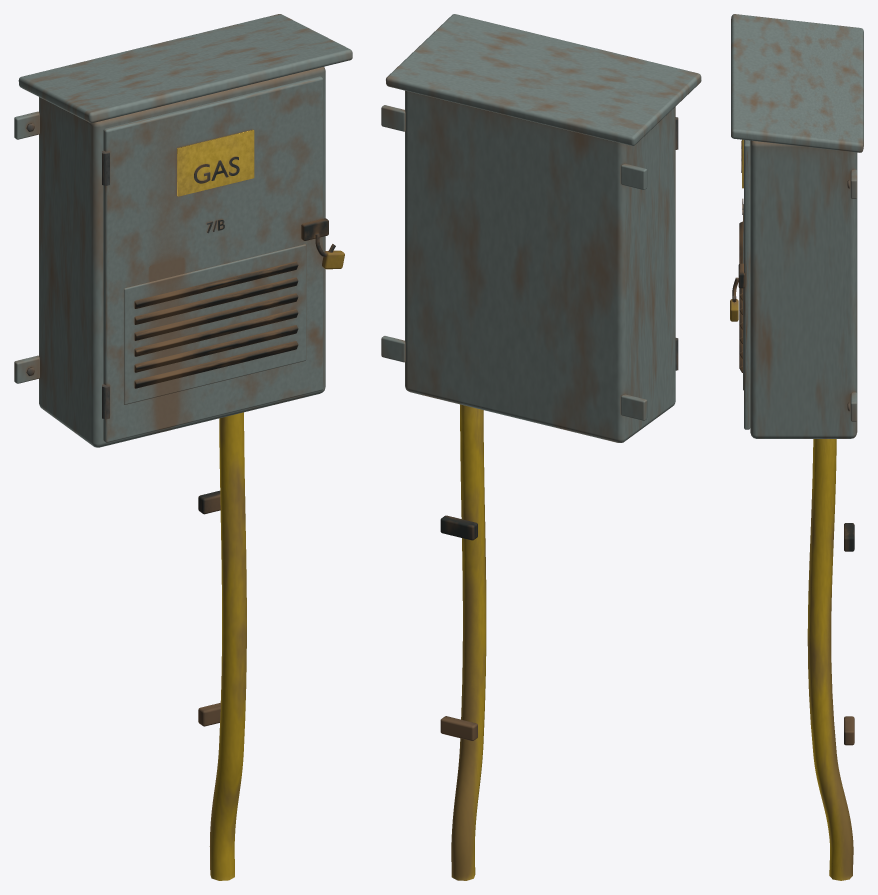
Rendered from wiktor_skrzynka.glb.
3 views of the same model, side by side, from view 1: azimuth 30°, elevation 25°; view 2: azimuth 150°, elevation 25°; view 3: azimuth 270°, elevation 25° (orthographic). The views are drawn at different scales.
Parts seen in each view (by area): view 1: Drzwi, Skrzynka; view 2: Skrzynka; view 3: Skrzynka, Drzwi.
Boxes of the visible parts, <box> form: Drzwi: <box>102,76,344,442</box>; Skrzynka: <box>14,14,352,880</box>; Skrzynka: <box>381,14,701,880</box>; Skrzynka: <box>731,14,863,880</box>; Drzwi: <box>730,139,750,429</box>.
Size of the model in its own units: 0.55 by 1.61 by 0.2506.
Materials: 2 (2 with a texture image).
